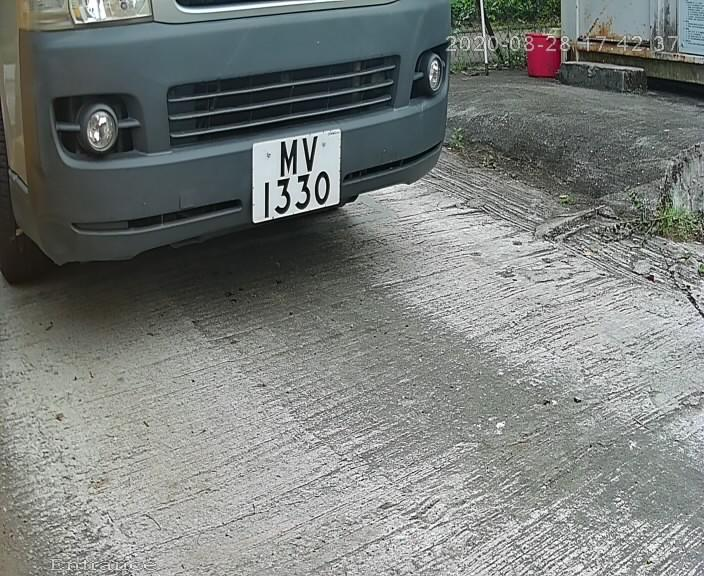License Plate: (239, 124, 349, 229)
